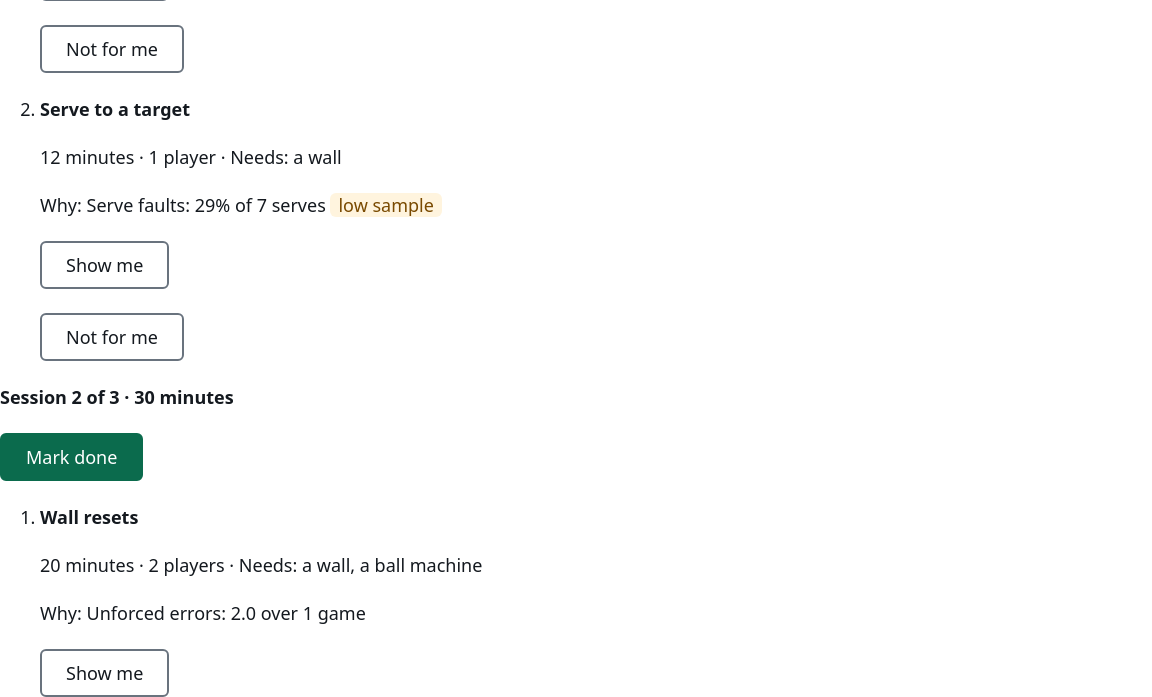
Not for me (negative first) › the dialog opens with Cancel focused, a 200-character reason and a counter
(page scrolled)
Check: the text "Serve to a target" is shown, box [40,97,190,121]
Click the button with aria-label "Not for me, Serve to a target" at [112, 337], box [40,313,184,361]
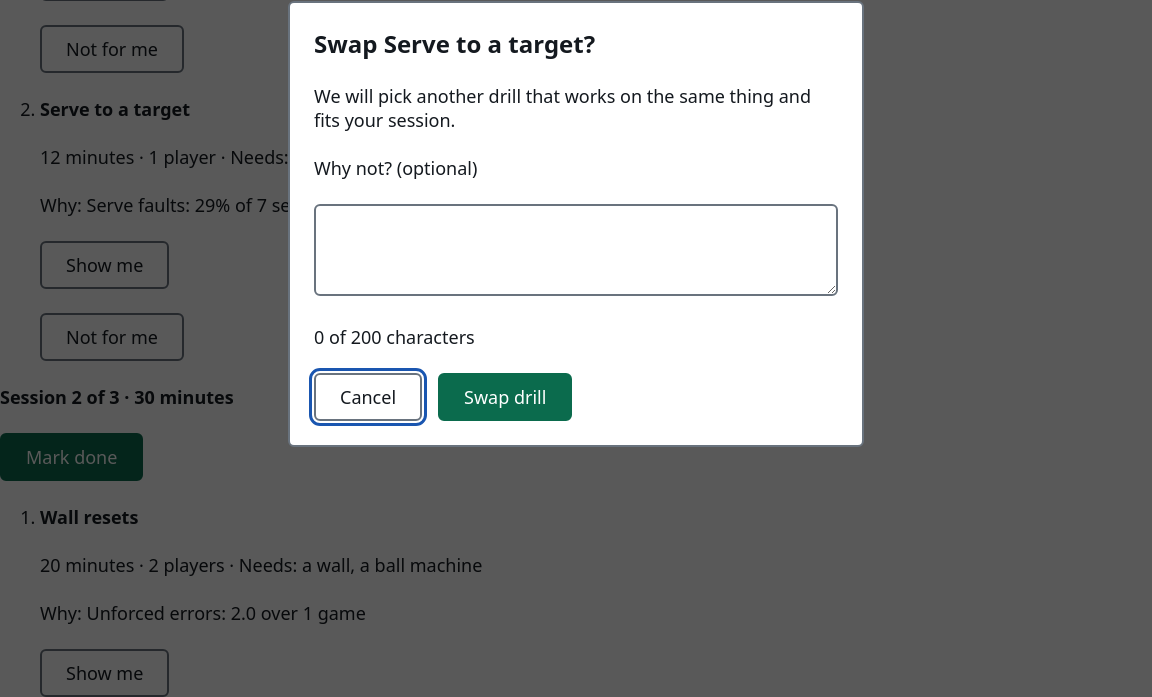
Check: the text "We will pick another drill that works on the same thing and fits your session." is shown, box [314,84,838,132]
Type "slow" into the text box labelled "Why not? (optional)" at [576, 250], box [314,204,838,296]
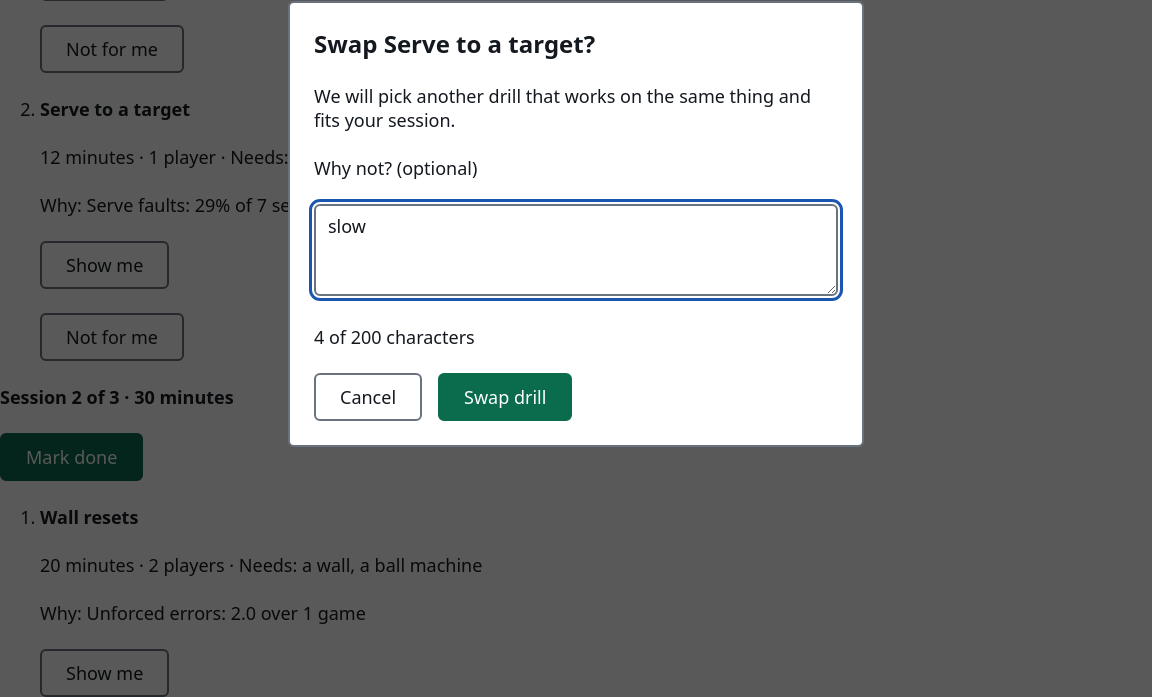
Check: the text "4 of 200 characters" is shown, box [314,325,475,349]
Click the button "Cancel" at [368, 397], box [314,373,422,421]
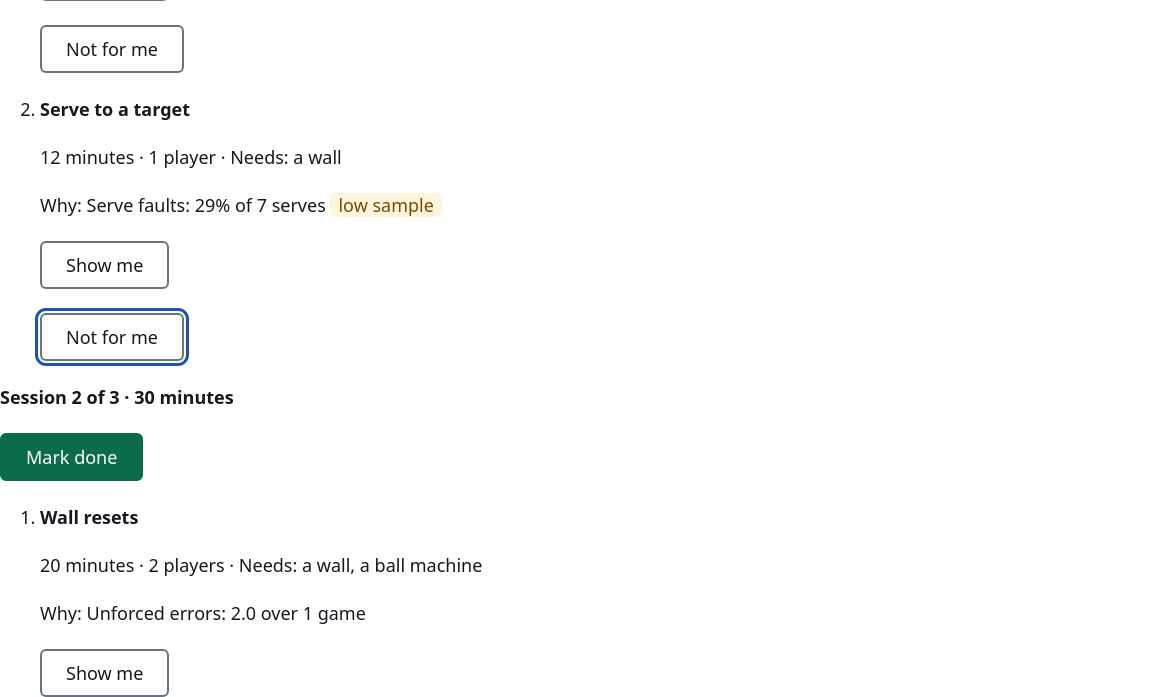
Check: the dialog is gone
